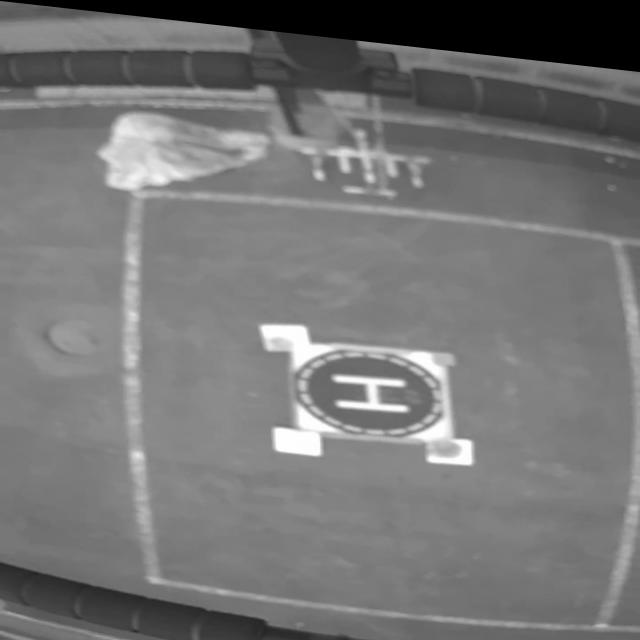Helipad: (330, 365, 410, 403)
